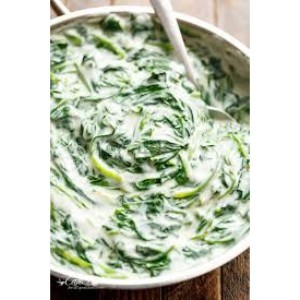spinach_brain food: (55, 32, 229, 275)
